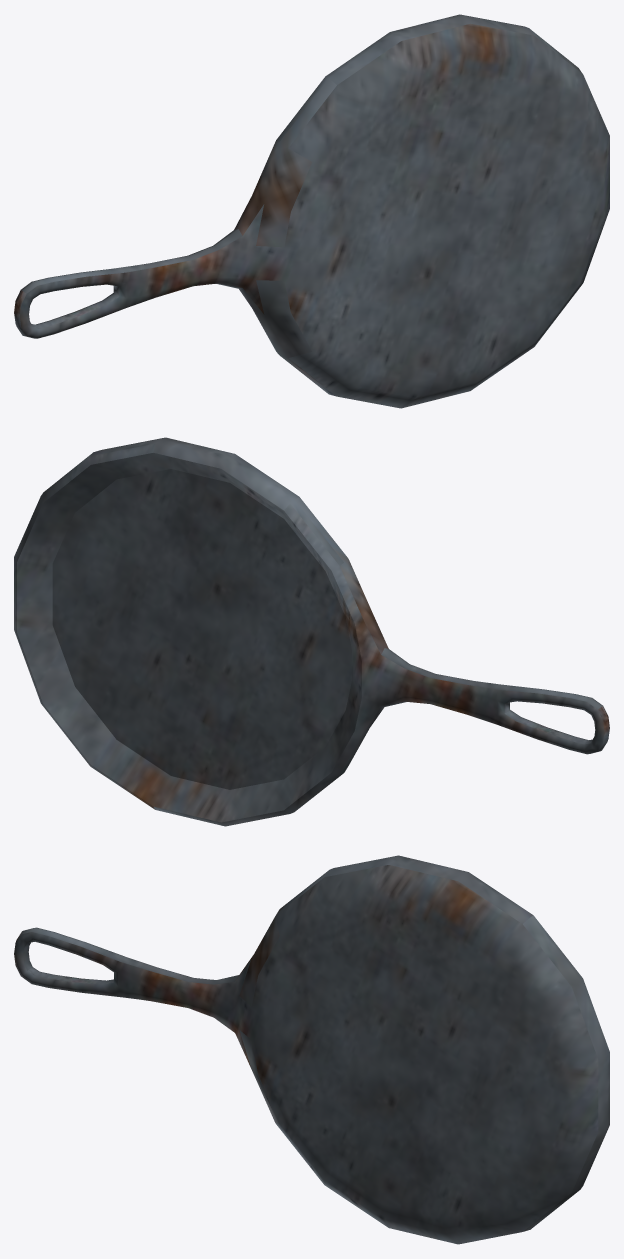
The model's file is frying_pan.glb.
3 views of the same model, one above another, from view 1: azimuth 30°, elevation 25°; view 2: azimuth 150°, elevation 25°; view 3: azimuth 330°, elevation 25° (orthographic).
Visible parts, largest first — view 1: tool; view 2: tool; view 3: tool.
Part boxes in pixels (x1,y1,x2,y2): tool: (14,14,609,408); tool: (14,437,609,826); tool: (14,855,609,1244).
Size of the model in its own units: 0.3934 by 0.2356 by 0.0323.
Materials: 1 (1 with a texture image).
